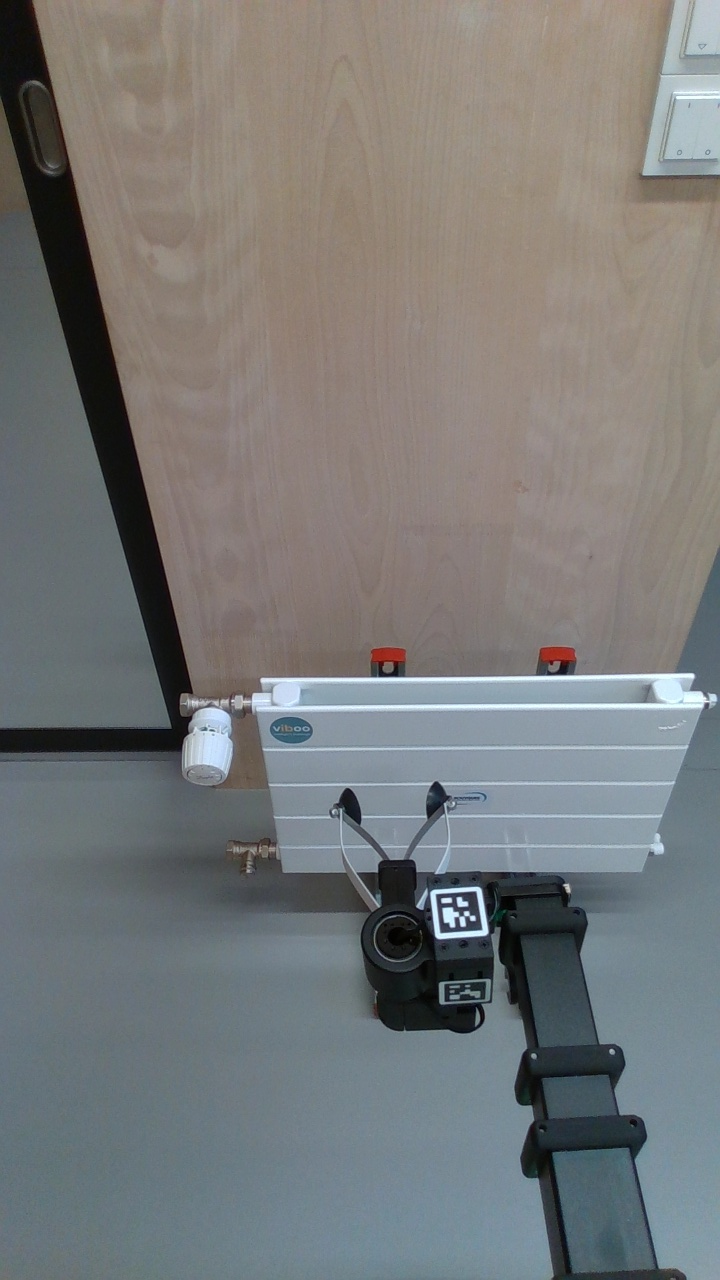Knob_Radiator: (169, 706, 241, 797)
Light_Switch: (656, 78, 720, 178)
Radiator: (246, 670, 678, 878)
